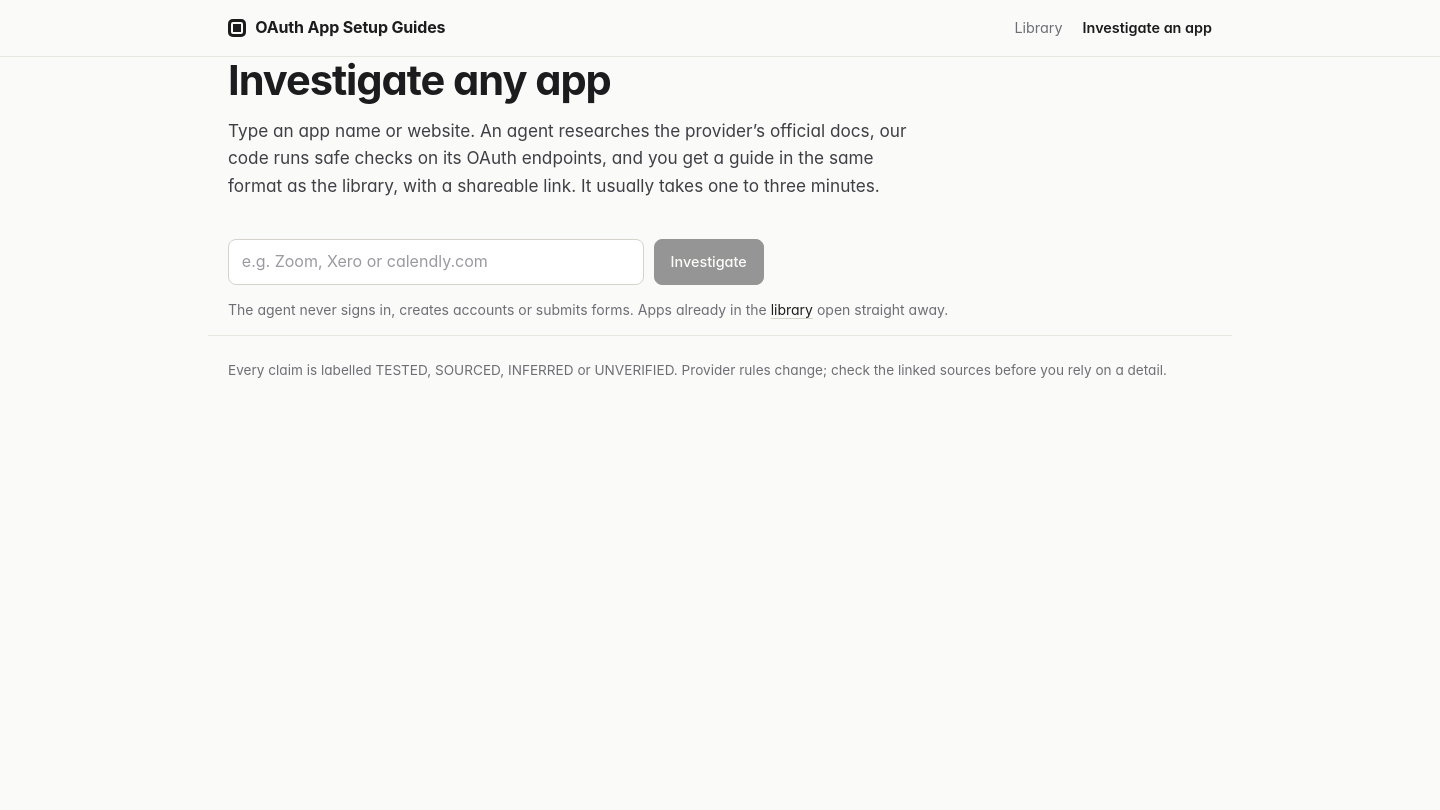
GeneratePage › stops the spinner and marks the step failed when the run ends in an error
Type "Zzqx" into the field. click: [436, 262]
box: [228,239,644,285]
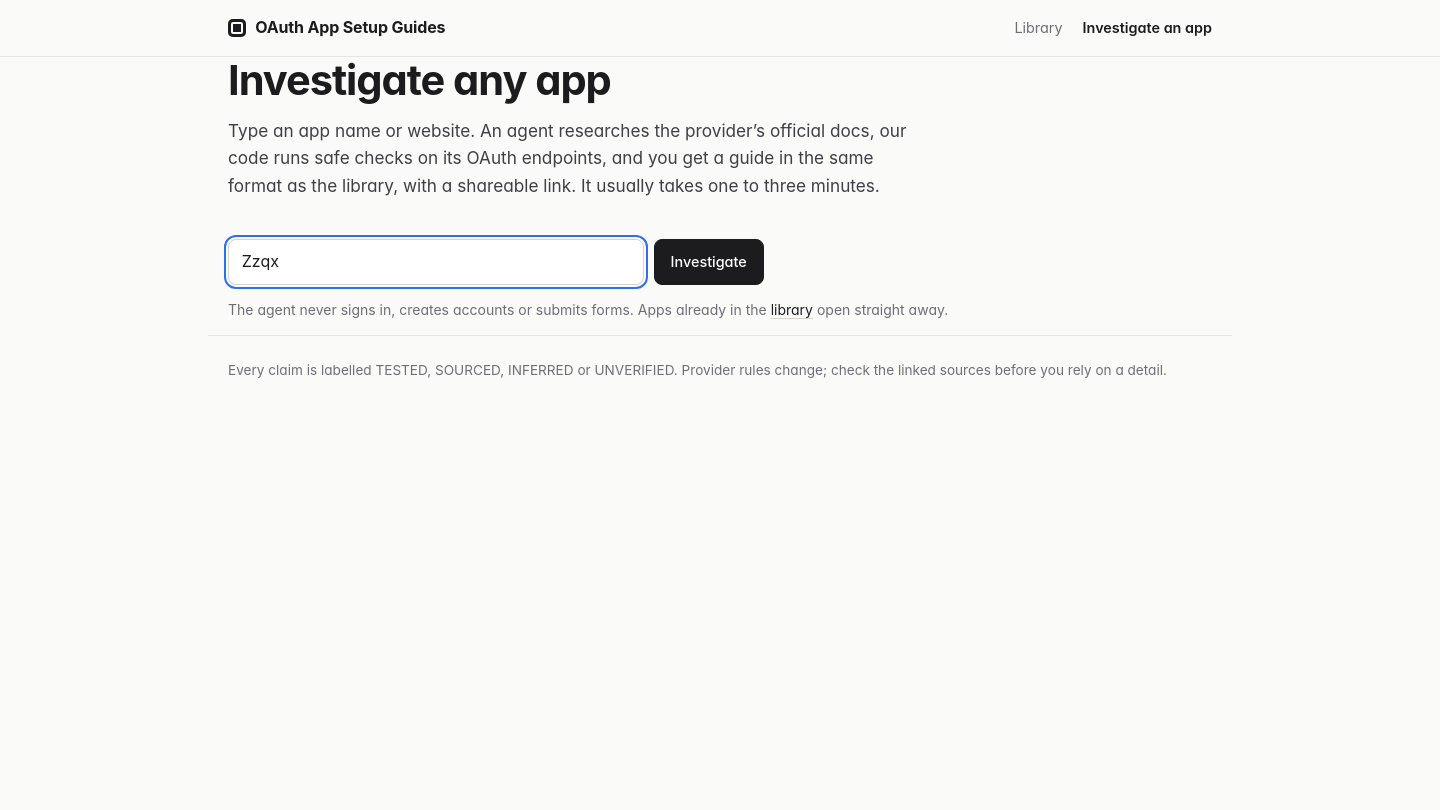
Click the button "Investigate". click: [709, 262]
box: [654,239,764,285]
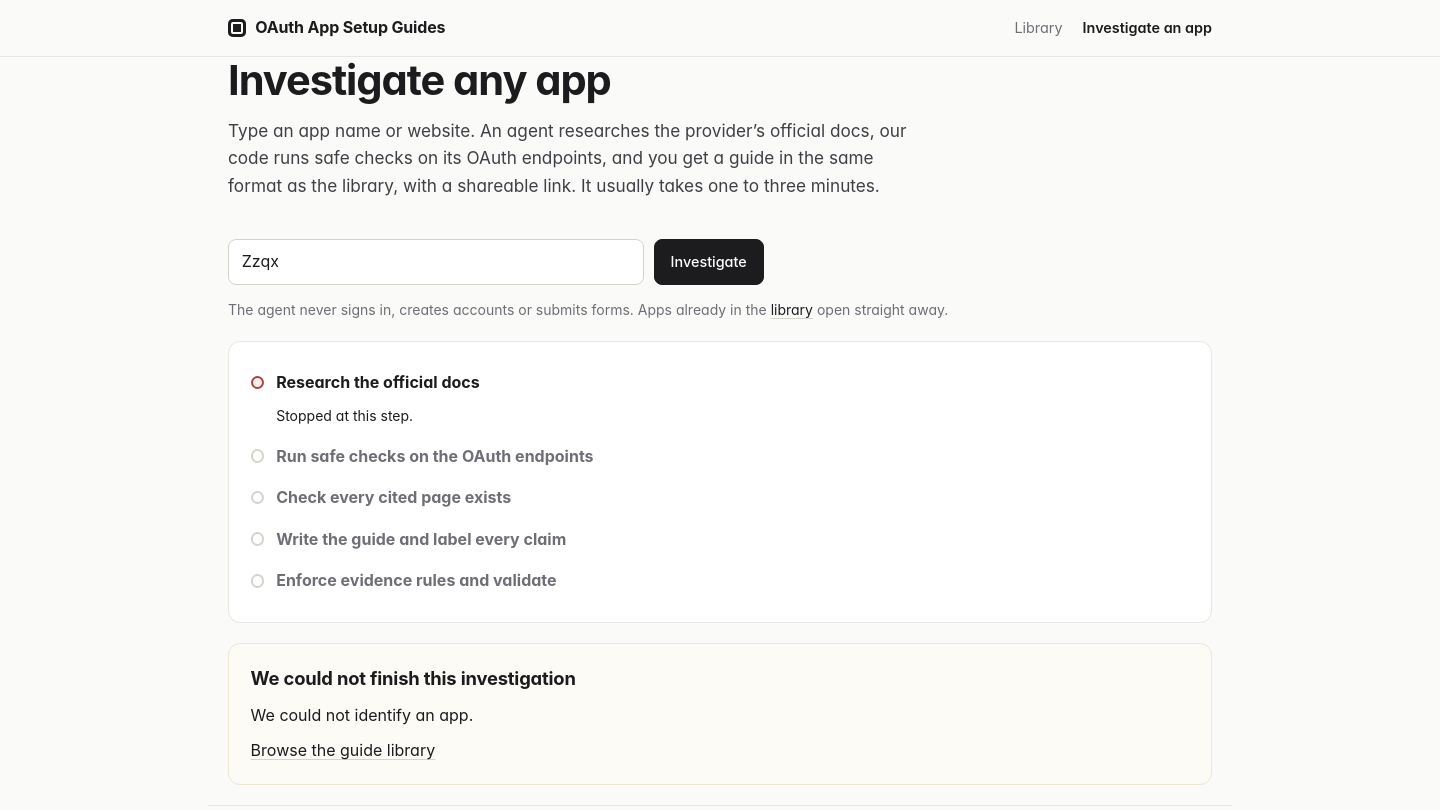
Expected: the message is shown, [228,643,1212,785]
Expected: the list item with class "is-failed" shows "Research the official docs", [276,372,480,392]
Expected: the text "Stopped at this step." is shown, [276,407,413,424]
